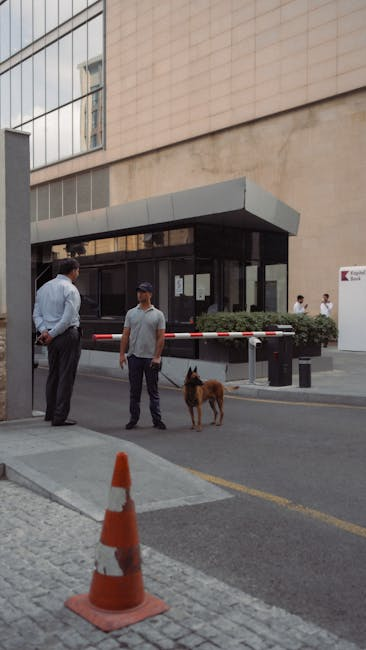traffic_cone: (63, 451, 170, 632)
